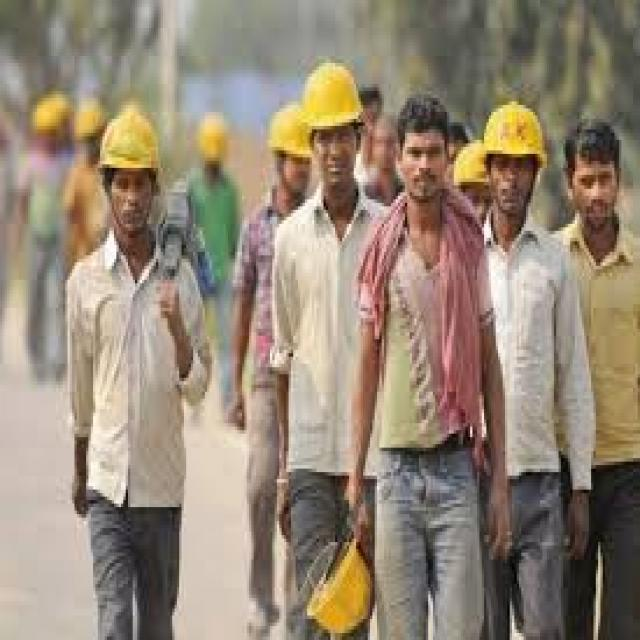Safety-Helmet: (298, 500, 376, 625), (95, 105, 163, 182), (298, 56, 365, 133), (479, 94, 547, 168), (452, 138, 498, 214), (185, 109, 233, 172), (265, 102, 312, 164)
